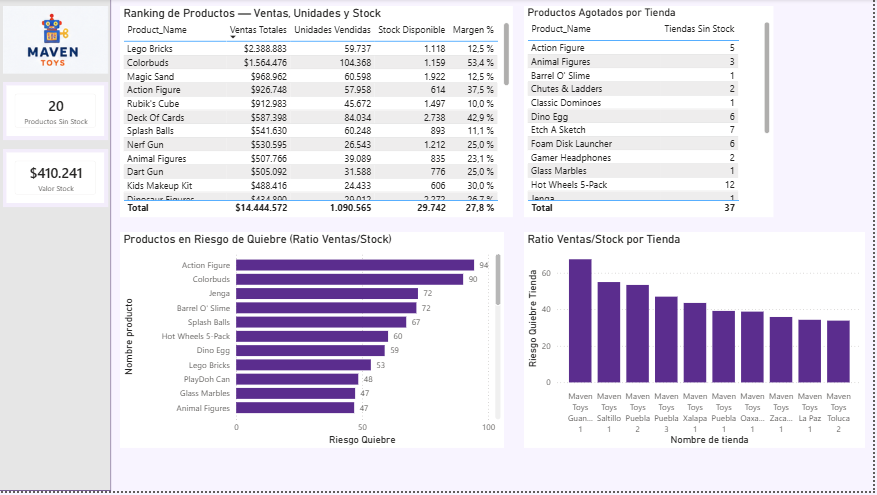

Layout of this report page (visuals, bound fields, positions):
{"tool":"powerbi","page":{"name":"Inventario y Productos","canvas":[1280,720],"ordinal":1},"visuals":[{"type":"tableEx","title":"Ranking de Productos — Ventas, Unidades y Stock","fields":{"Values":["products.Product_Name","MEDIDAS.Ventas Totales","MEDIDAS.Unidades Vendidas","MEDIDAS.Stock Disponible","MEDIDAS.Margen %"]},"box":[177,9.7,574.8,309.3],"z":0},{"type":"shape","box":[0,0,164.4,719.8],"z":1000},{"type":"image","box":[5.8,9.7,153.7,99.2],"z":2000},{"type":"barChart","title":"Productos en Riesgo de Quiebre (Ratio Ventas/Stock)","fields":{"Category":["products.Product_Name"],"Y":["MEDIDAS.Riesgo Quiebre"]},"box":[177,340.4,562.2,316.1],"z":3000},{"type":"columnChart","title":"Ratio Ventas/Stock por Tienda","fields":{"Category":["stores.Store_Name"],"Y":["MEDIDAS.Riesgo Quiebre Tienda"]},"box":[768.4,340.4,499,316.1],"z":4000},{"type":"tableEx","title":"Productos Agotados por Tienda","fields":{"Values":["products.Product_Name","MEDIDAS.Tiendas Sin Stock"]},"box":[768.4,9.7,364.7,309.3],"z":5000},{"type":"cardVisual","fields":{"Data":["MEDIDAS.Productos Sin Stock"]},"box":[5.8,121.6,153.7,84.6],"z":5001},{"type":"cardVisual","fields":{"Data":["MEDIDAS.Valor Stock"]},"box":[5.8,219.8,153.7,84.6],"z":5002}]}

Visuals, with their boxes in screenshot pixels (x1, y1, x2, y2), scaled from the page's 1280x720 canvas onto the 877x495 screenshot:
"Ranking de Productos — Ventas, Unidades y Stock" tableEx: l=121, t=7, r=515, b=219
shape: l=0, t=0, r=113, b=494
image: l=4, t=7, r=109, b=75
"Productos en Riesgo de Quiebre (Ratio Ventas/Stock)" barChart: l=121, t=234, r=506, b=451
"Ratio Ventas/Stock por Tienda" columnChart: l=526, t=234, r=868, b=451
"Productos Agotados por Tienda" tableEx: l=526, t=7, r=776, b=219
cardVisual - MEDIDAS.Productos Sin Stock: l=4, t=84, r=109, b=142
cardVisual - MEDIDAS.Valor Stock: l=4, t=151, r=109, b=209
